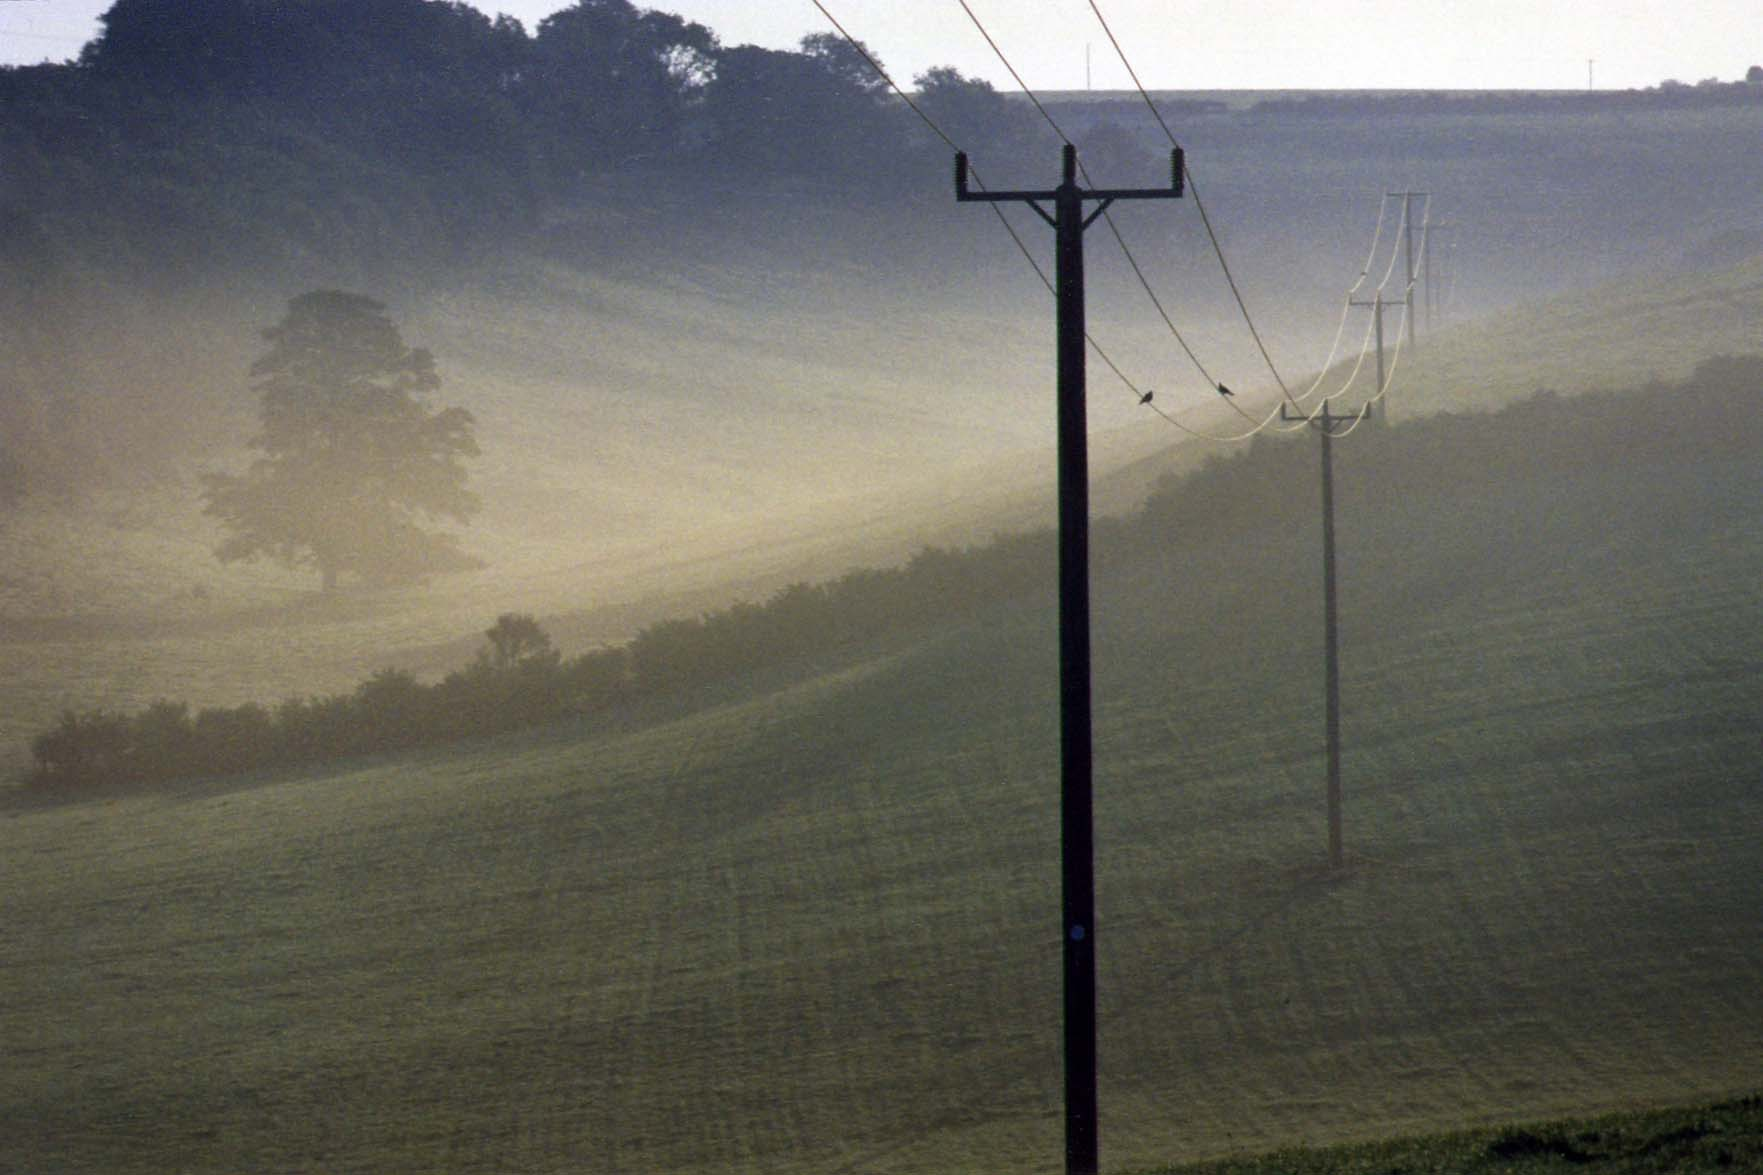utility_pole: (920, 98, 1210, 340), (1264, 376, 1387, 479)
